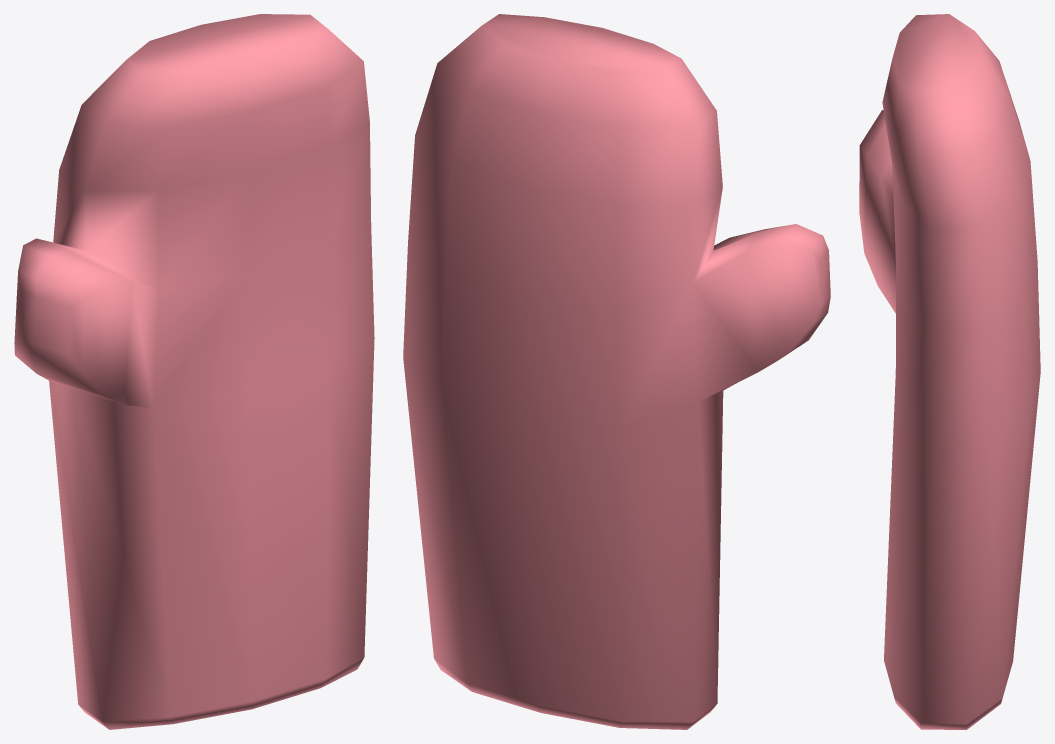
File: insulator_oven_left.glb
The picture shows the model from 3 angles, left to right: view 1: azimuth 30°, elevation 25°; view 2: azimuth 150°, elevation 25°; view 3: azimuth 270°, elevation 25°; orthographic projection. The views are drawn at different scales.
Parts seen in each view (by area): view 1: insulator oven left; view 2: insulator oven left; view 3: insulator oven left.
Part boxes in pixels (x1,y1,x2,y2): insulator oven left: (14,14,374,729); insulator oven left: (403,14,830,729); insulator oven left: (859,14,1040,729).
Size of the model in its own units: 2.77 by 4.61 by 1.23.
1 material, 1 textured.
